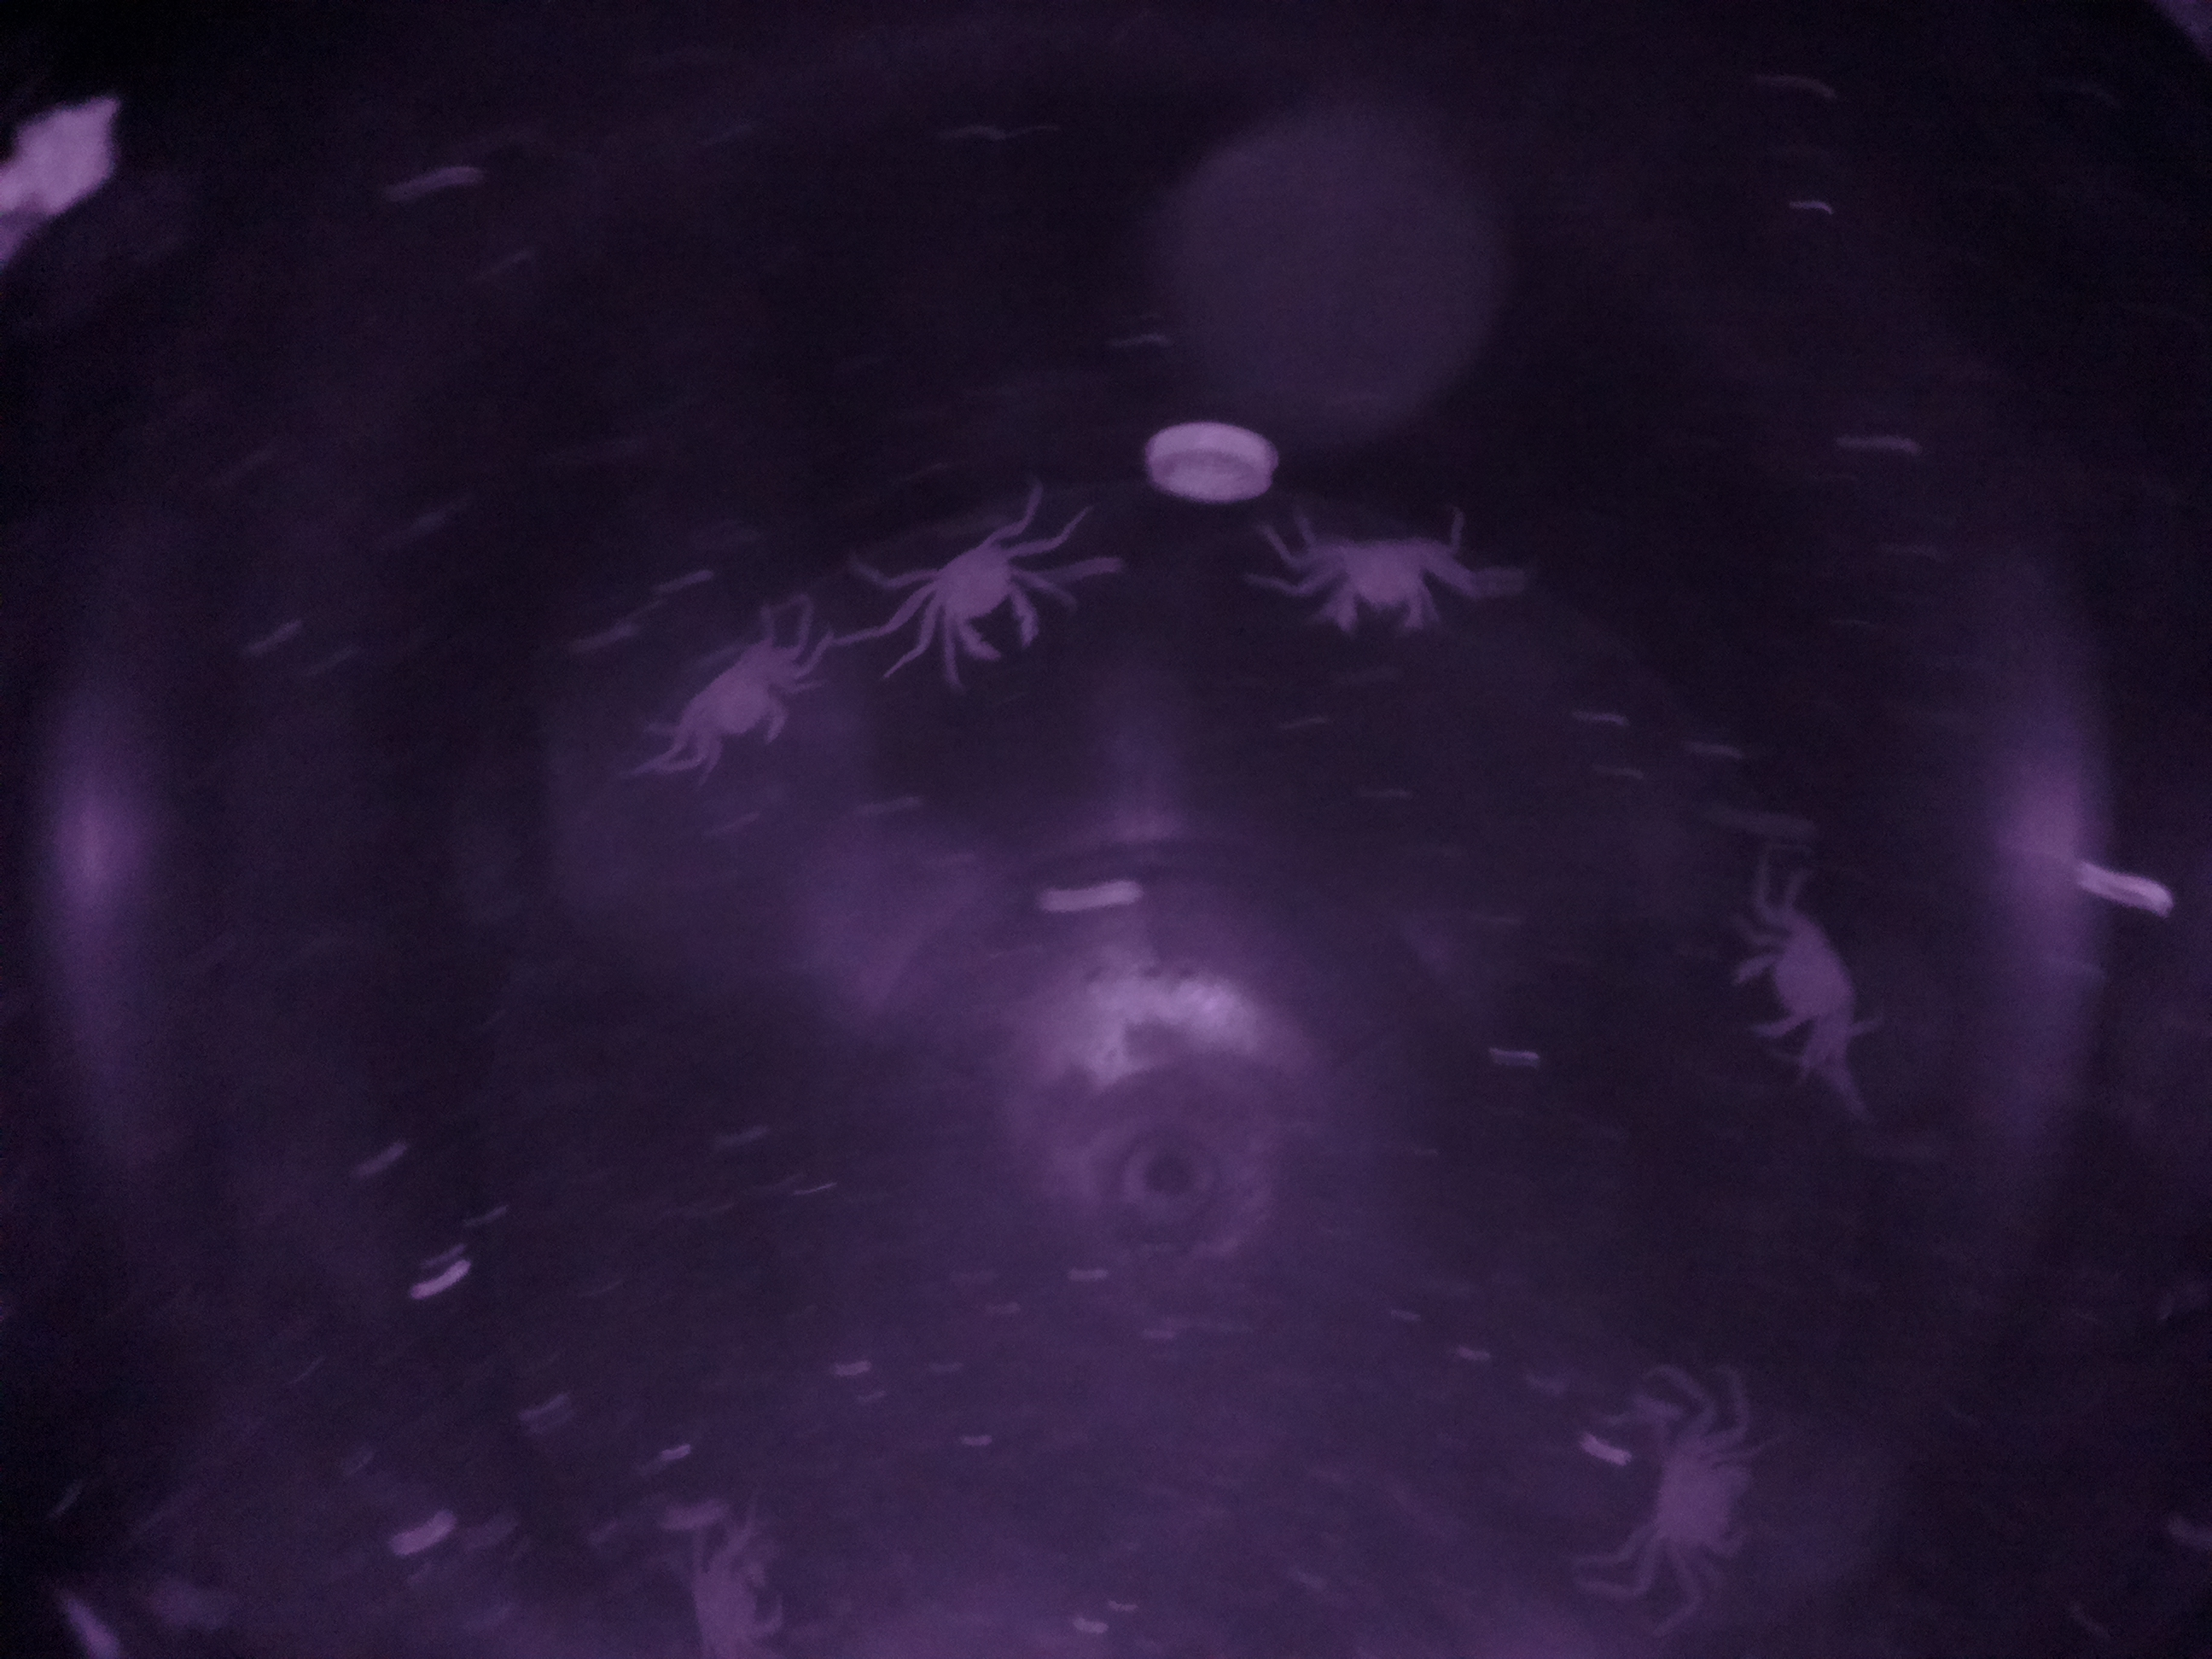Crab: (878, 511, 1054, 674), (1292, 498, 1477, 652)
